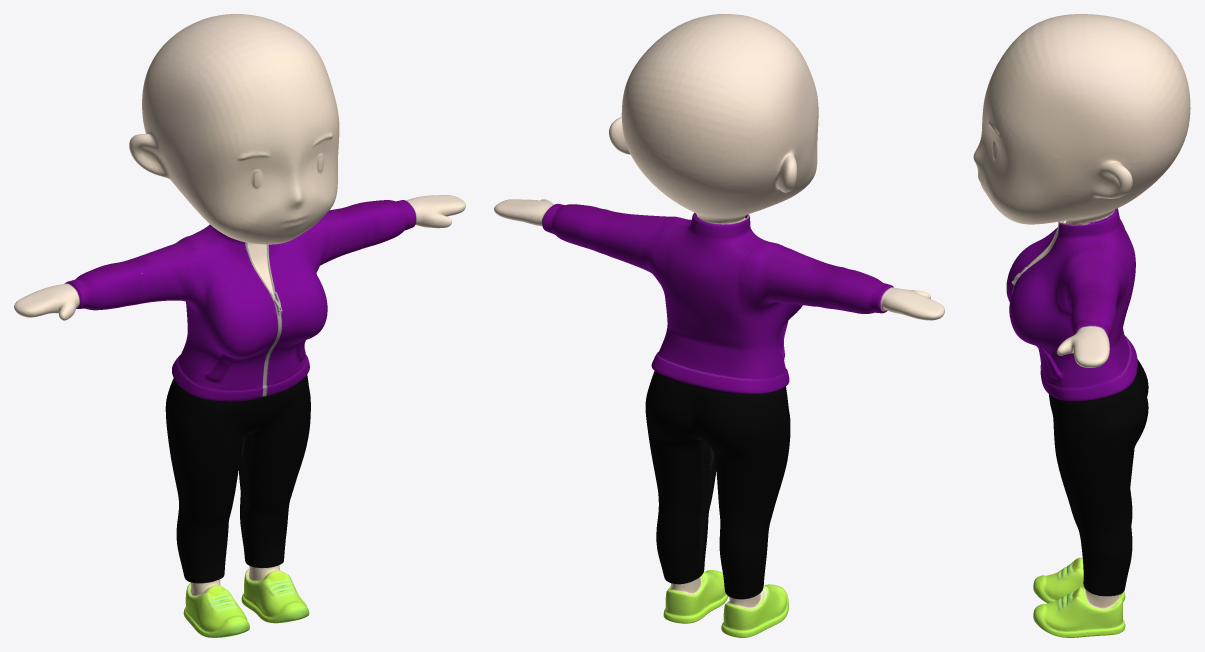
File: baked_outfit_track.glb
The picture shows the model from 3 angles, left to right: view 1: azimuth 30°, elevation 25°; view 2: azimuth 150°, elevation 25°; view 3: azimuth 270°, elevation 25°; orthographic projection.
Bounding box in the file's own units: 1.5 × 1.9 × 0.6331.
Materials: 1 (1 with a texture image).
